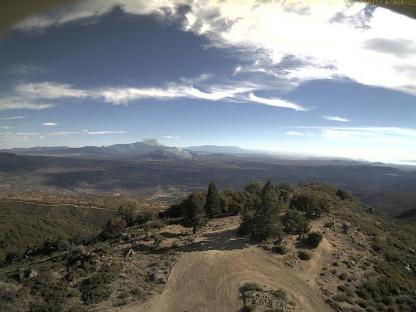smoke: (140, 137, 206, 163)
